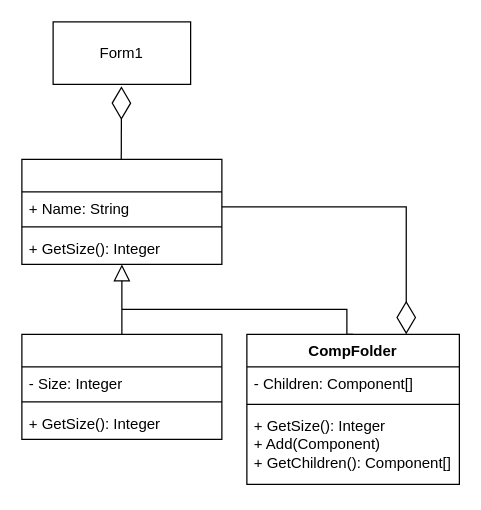
Some shapes in this 481 by 510 pixel diagram are drawn without their labels. The box of each missing label's shape, as (x1, y1, x2, y2) in pixels:
CompFile: (21, 333, 222, 439)
Component: (21, 158, 222, 264)
